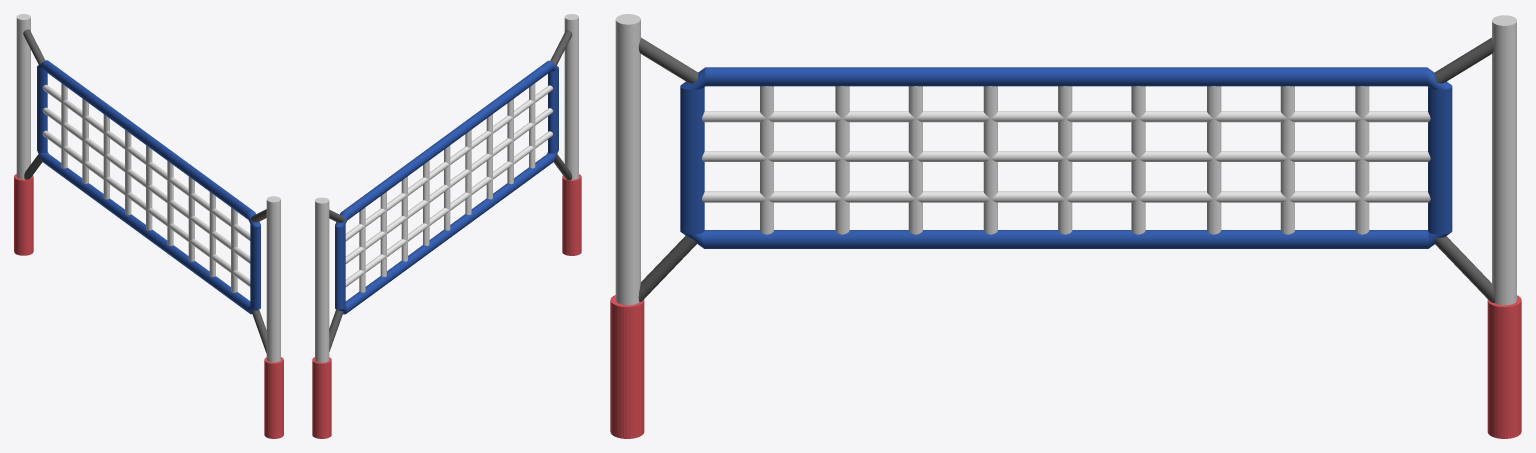
The model's file is Net.fbx.
3 views of the same model, side by side, from view 1: azimuth 30°, elevation 25°; view 2: azimuth 150°, elevation 25°; view 3: azimuth 270°, elevation 25° (orthographic). The views are drawn at different scales.
Parts seen in each view (by area): view 1: Cylinder.008, Cylinder.003, Cylinder, Cylinder.001, Cylinder.009, Cylinder.007, Cylinder.005, Cylinder.002; view 2: Cylinder.008, Cylinder.003, Cylinder.001, Cylinder, Cylinder.007, Cylinder.009, Cylinder.004, Cylinder.006; view 3: Cylinder.008, Cylinder.003, Cylinder, Cylinder.001, Cylinder.009, Cylinder.007, Cylinder.006, Cylinder.002, Cylinder.004, Cylinder.005.
Part boxes in pixels (bbox=[...]): Cylinder.008: bbox=[42, 83, 250, 292]; Cylinder.003: bbox=[37, 60, 260, 314]; Cylinder: bbox=[266, 196, 280, 362]; Cylinder.001: bbox=[16, 14, 30, 179]; Cylinder.009: bbox=[264, 357, 283, 438]; Cylinder.007: bbox=[14, 174, 33, 255]; Cylinder.005: bbox=[23, 29, 45, 65]; Cylinder.002: bbox=[251, 310, 266, 353]; Cylinder.008: bbox=[345, 83, 553, 292]; Cylinder.003: bbox=[335, 60, 558, 314]; Cylinder.001: bbox=[315, 197, 329, 362]; Cylinder: bbox=[564, 14, 578, 179]; Cylinder.007: bbox=[312, 357, 331, 438]; Cylinder.009: bbox=[562, 174, 581, 255]; Cylinder.004: bbox=[550, 30, 572, 65]; Cylinder.006: bbox=[329, 309, 343, 351]; Cylinder.008: bbox=[702, 86, 1430, 234]; Cylinder.003: bbox=[680, 67, 1452, 248]; Cylinder: bbox=[615, 14, 640, 305]; Cylinder.001: bbox=[1492, 15, 1516, 305]; Cylinder.009: bbox=[610, 295, 644, 438]; Cylinder.007: bbox=[1487, 295, 1521, 438]; Cylinder.006: bbox=[1435, 236, 1495, 302]; Cylinder.002: bbox=[638, 235, 696, 301]; Cylinder.004: bbox=[638, 37, 698, 83]; Cylinder.005: bbox=[1434, 37, 1493, 83].
Bounding box in the file's own units: 202 × 2694 × 5393.
